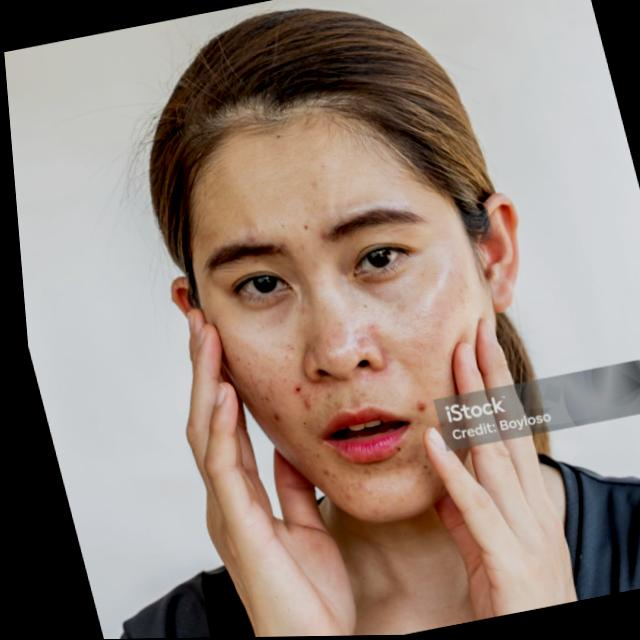papule: (298, 177, 318, 194), (405, 397, 420, 414), (262, 409, 276, 425), (295, 396, 308, 412), (331, 493, 345, 506), (311, 463, 321, 479)
